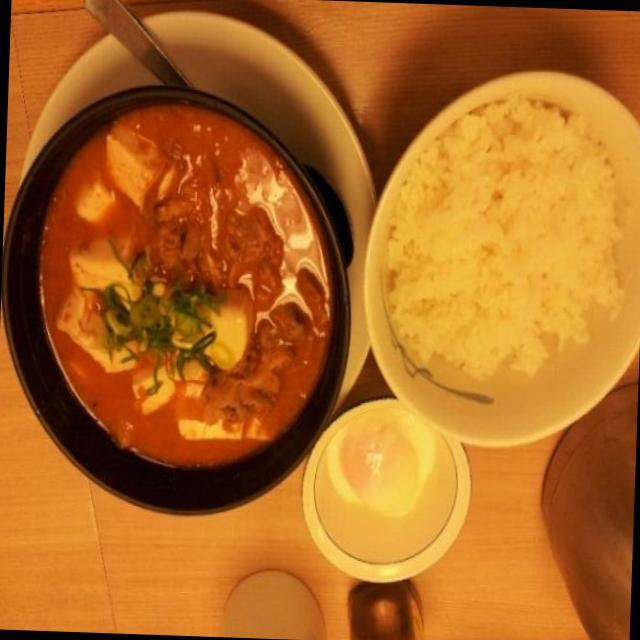Rice: (382, 100, 636, 400)
